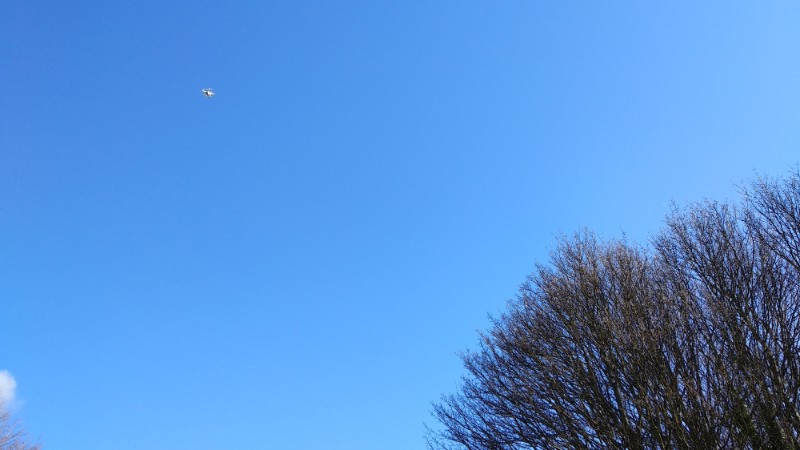drone: (199, 87, 217, 98)
